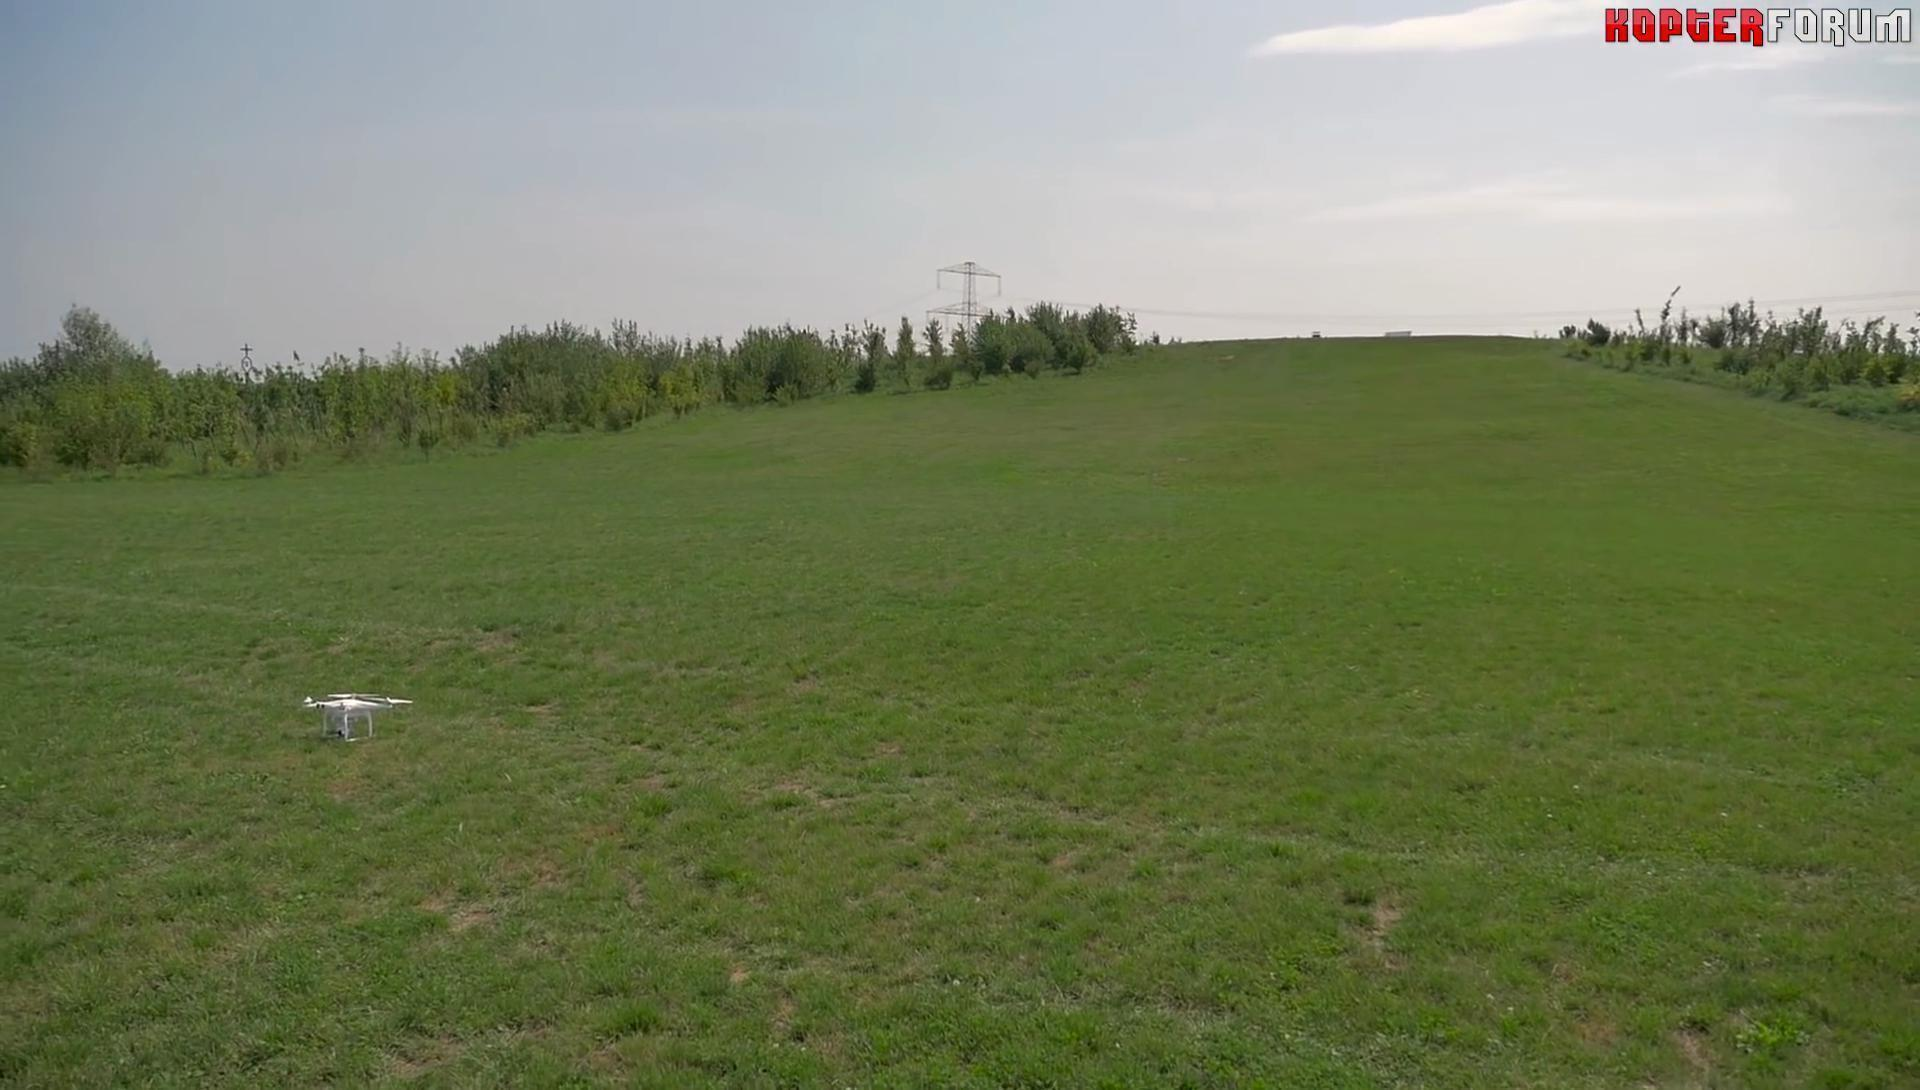drone: (302, 691, 413, 742)
